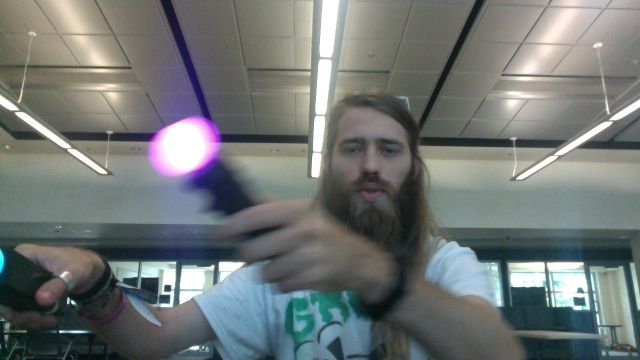wand: (153, 118, 219, 175)
